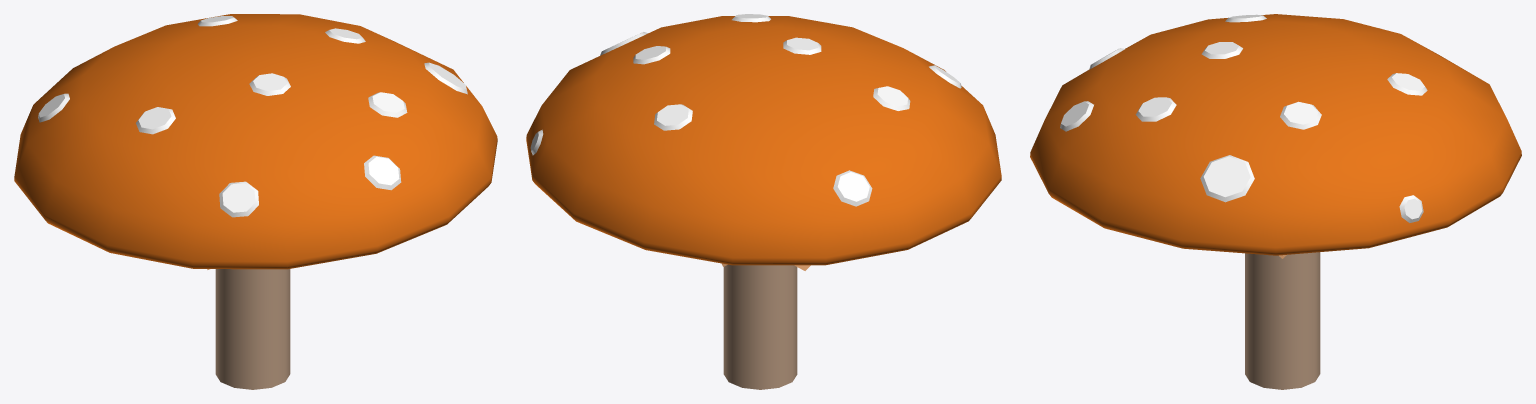
Rendered from Mashroom_02_2.fbx.
3 views of the same model, side by side, from view 1: azimuth 30°, elevation 25°; view 2: azimuth 150°, elevation 25°; view 3: azimuth 270°, elevation 25° (orthographic). The views are drawn at different scales.
Parts seen in each view (by area): view 1: Mashroom_02_2; view 2: Mashroom_02_2; view 3: Mashroom_02_2.
Boxes of the visible parts, x1=… form: Mashroom_02_2: x1=14, y1=14, x2=497, y2=389; Mashroom_02_2: x1=526, y1=14, x2=1001, y2=389; Mashroom_02_2: x1=1030, y1=14, x2=1521, y2=389.
Bounding box in the file's own units: 141 × 102 × 141.
